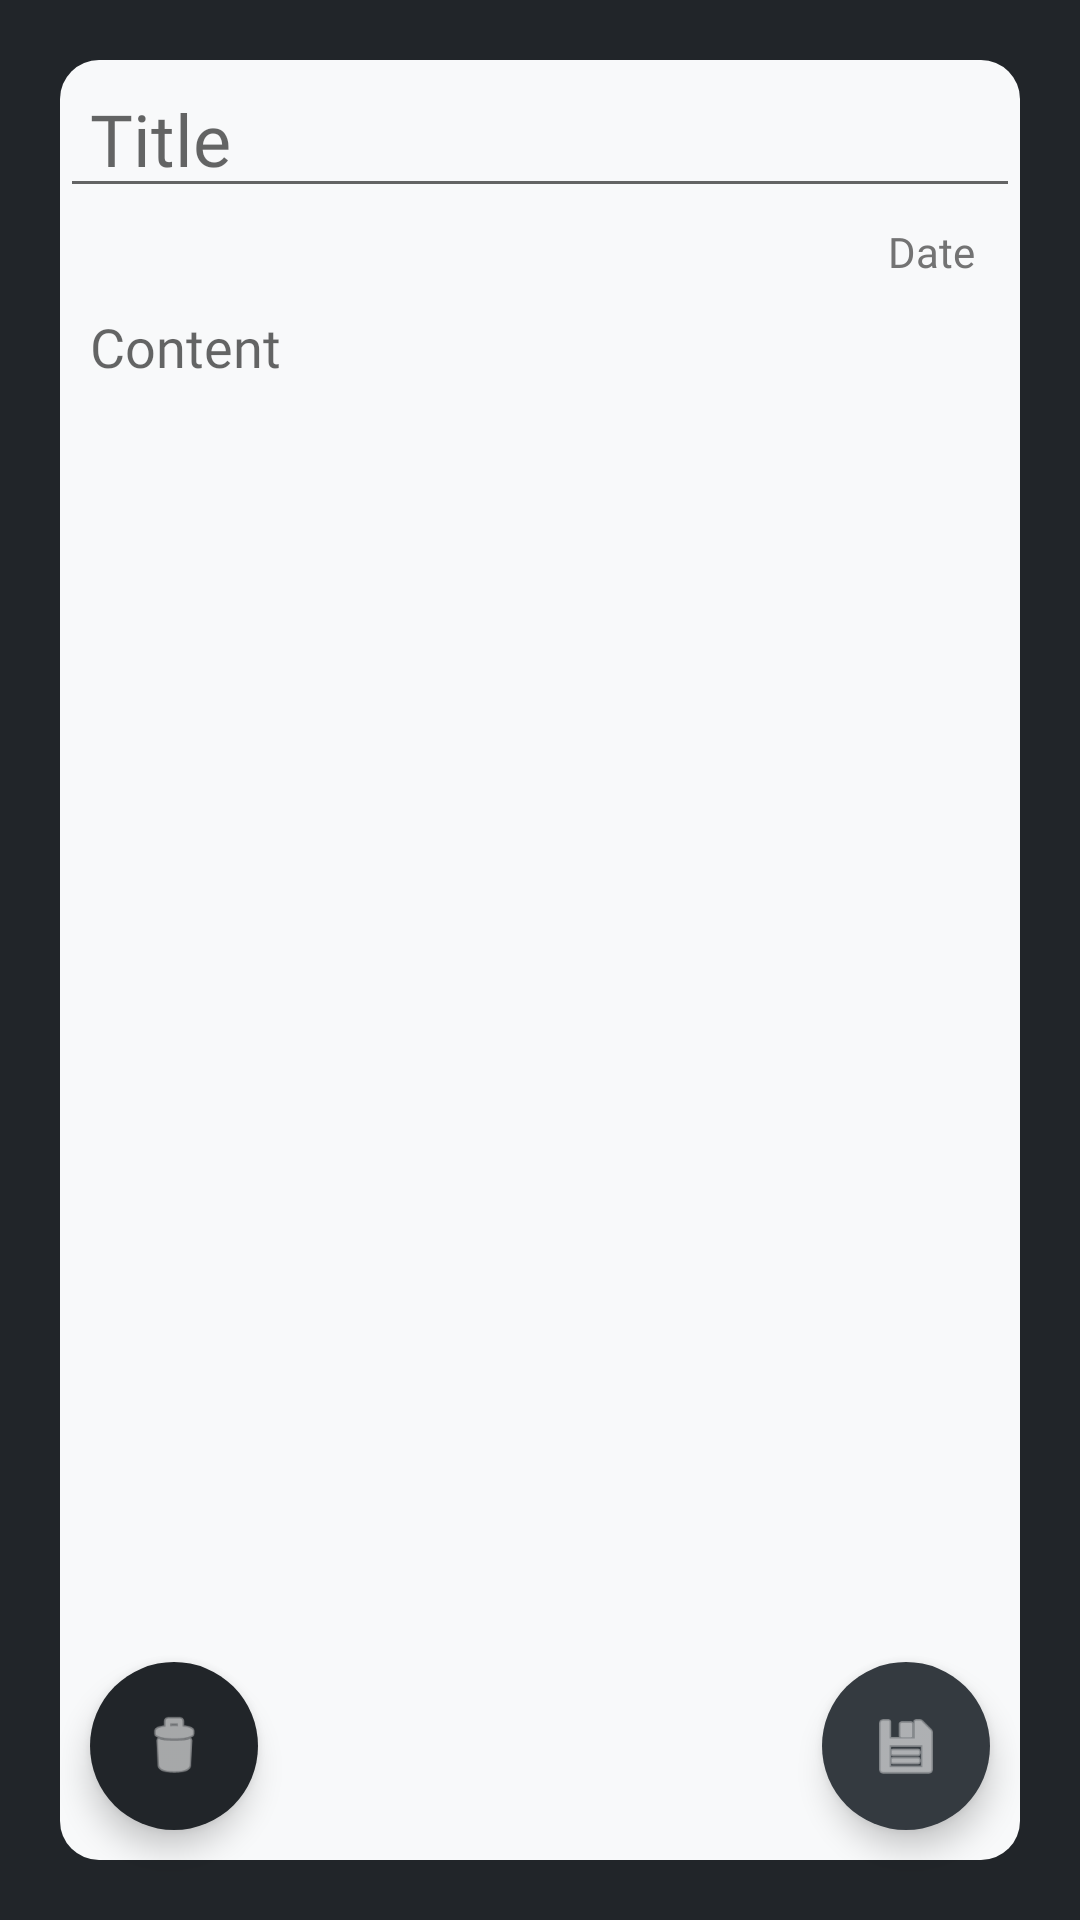

Screen size 1080x1920. Icon name, then its box in pixels as (x1, y1, x2, y2):
delete: (90, 1662, 258, 1830)
save: (822, 1662, 990, 1830)
